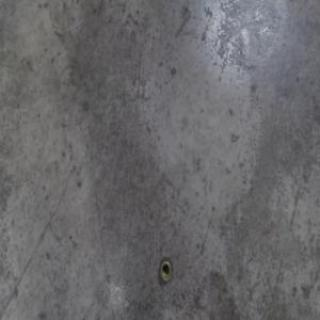Nuttrack_idkeyframe: (158, 256, 172, 284)
